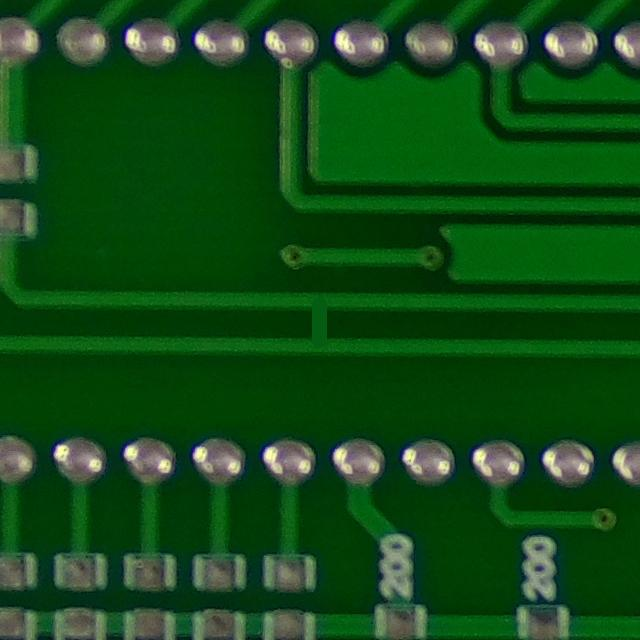short: (287, 272, 354, 369)
